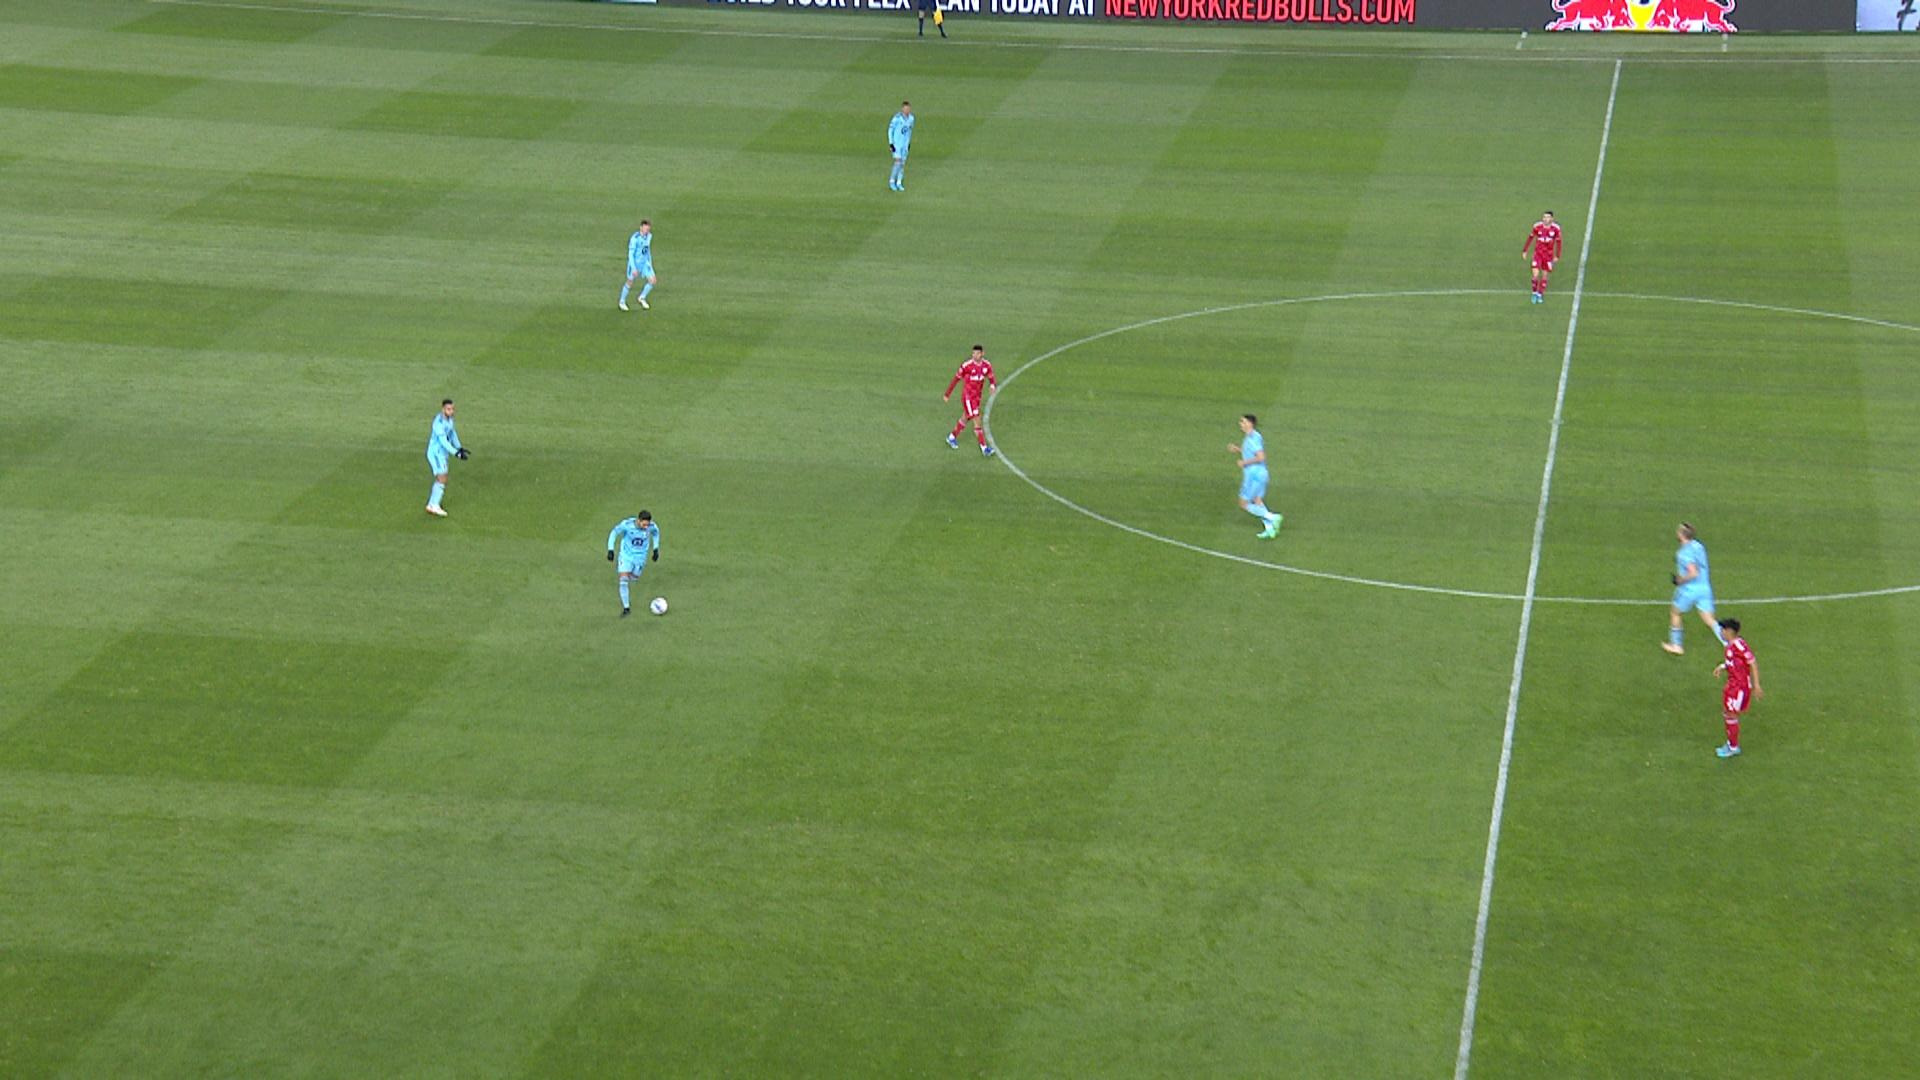football: (649, 596, 669, 616)
